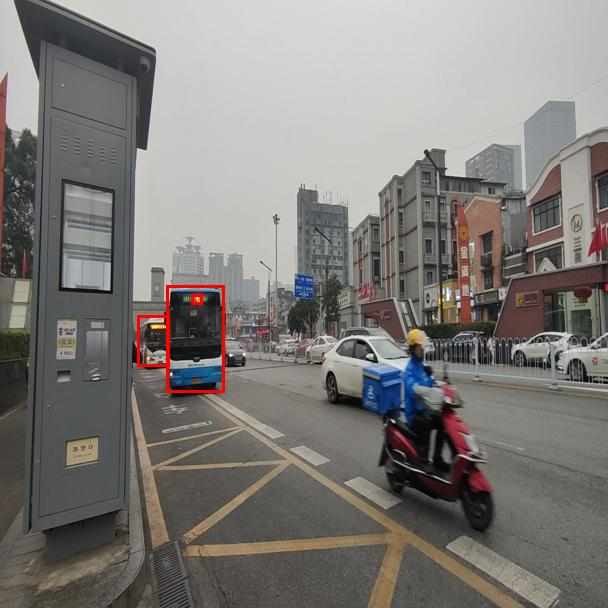bus: (166, 285, 224, 392), (137, 315, 169, 366)
screen: (191, 294, 202, 304)
